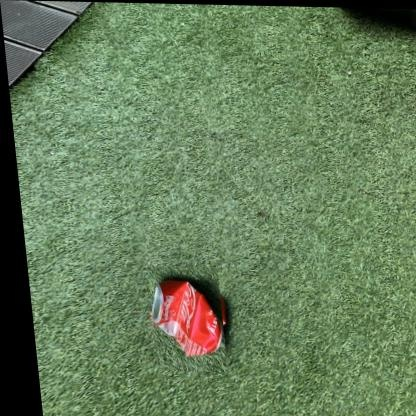trash: (152, 280, 222, 355)
